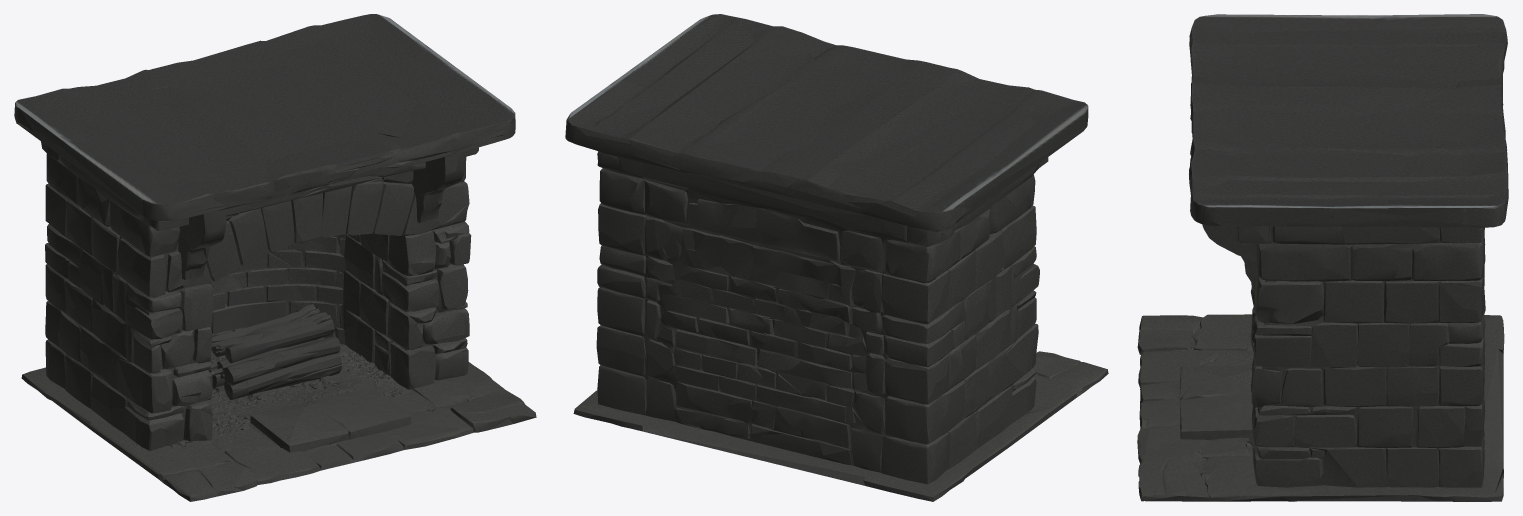
3 renders of one model, left to right at view 1: azimuth 30°, elevation 25°; view 2: azimuth 150°, elevation 25°; view 3: azimuth 270°, elevation 25°, orthographic. The views are drawn at different scales.
Bounding box in the file's own units: 1.9 × 1.37 × 1.54.
Materials: 1 (1 with a texture image).
